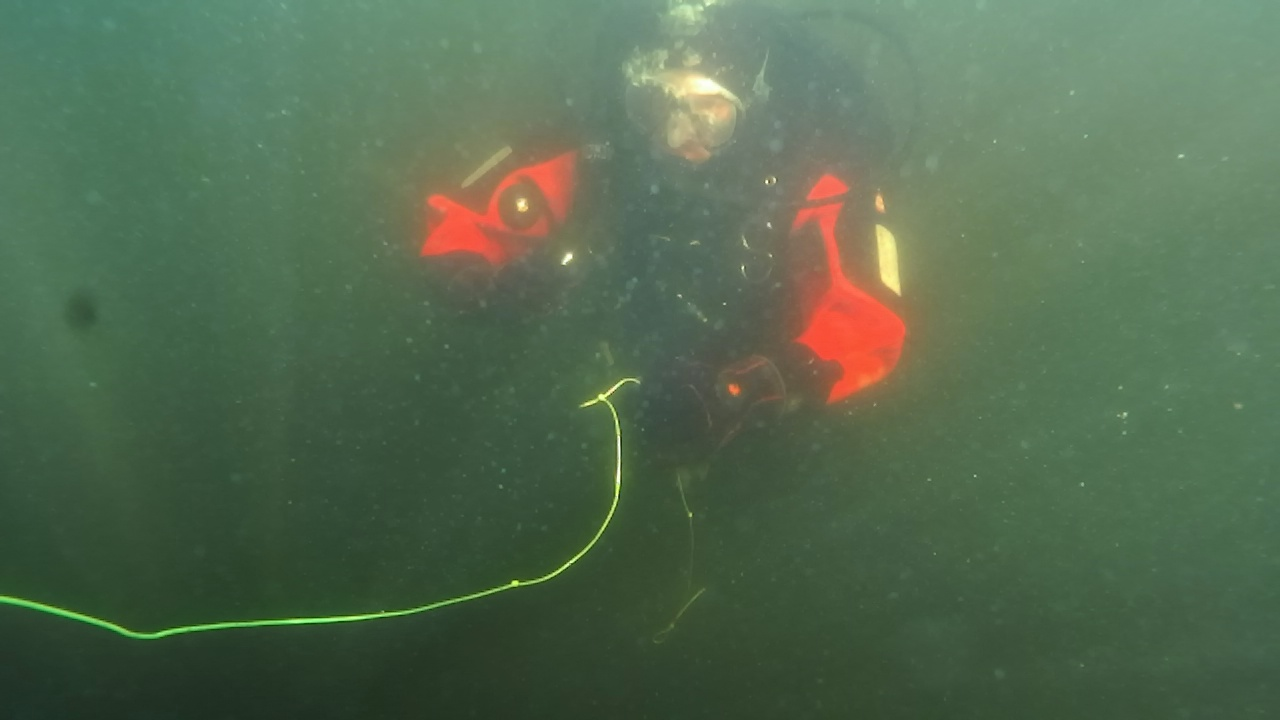Diver: (390, 4, 936, 490)
Hand: (624, 330, 738, 488), (462, 242, 578, 334)
Head: (602, 2, 780, 188)
